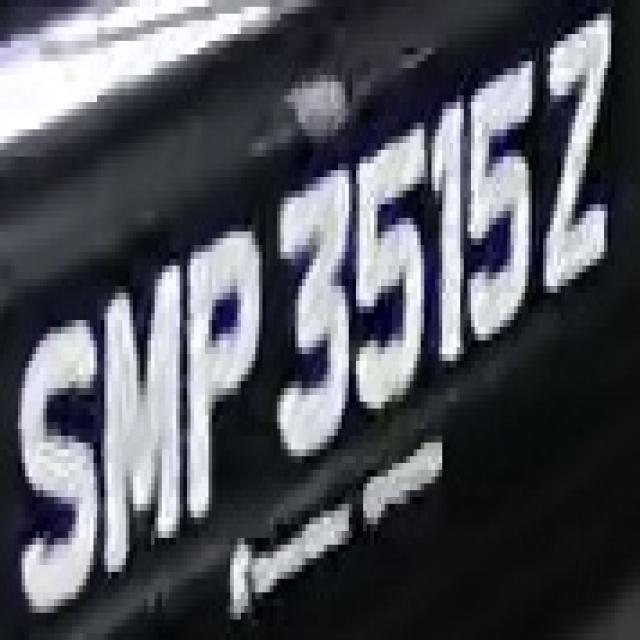1: (428, 75, 474, 388)
3: (270, 143, 352, 497)
5: (453, 41, 543, 354), (349, 102, 435, 429)
M: (94, 245, 194, 572)
P: (183, 190, 259, 544)
S: (14, 293, 101, 626)
Z: (532, 6, 622, 334)
